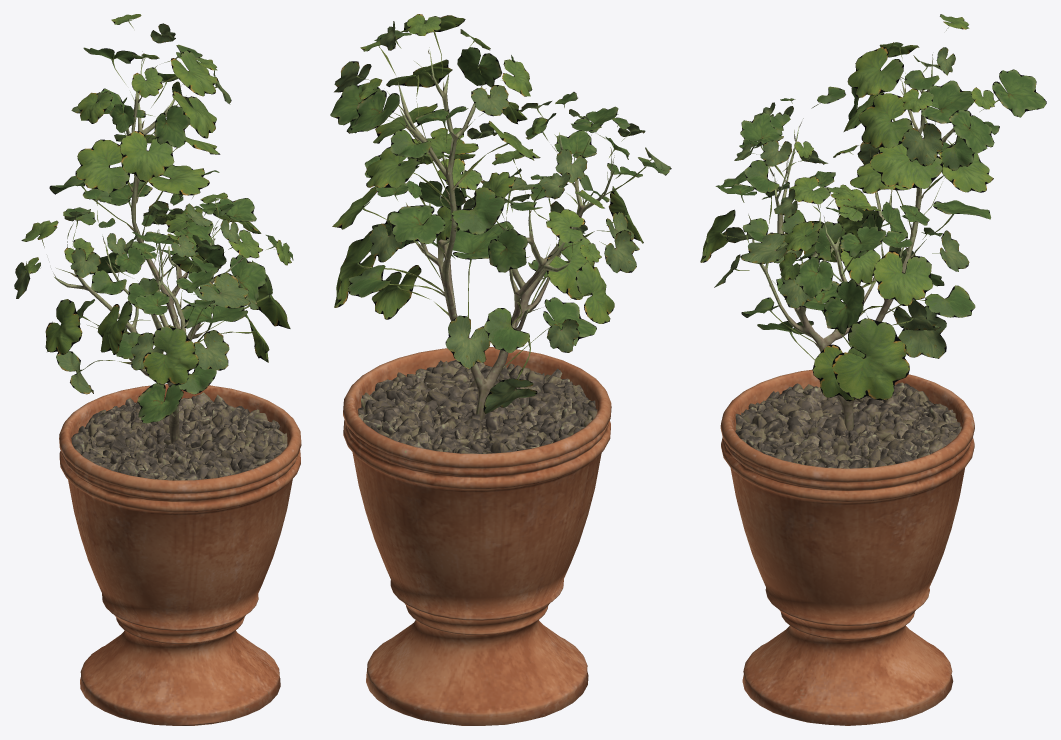
Rendered from potted_plant_01.glb.
3 renders of one model, left to right at view 1: azimuth 30°, elevation 25°; view 2: azimuth 150°, elevation 25°; view 3: azimuth 270°, elevation 25°, orthographic. The views are drawn at different scales.
Parts seen in each view (by area): view 1: potted_plant_01_pot, potted_plant_01_leaves, potted_plant_01_pebbles, potted_plant_01_stem; view 2: potted_plant_01_pot, potted_plant_01_leaves, potted_plant_01_pebbles, potted_plant_01_stem; view 3: potted_plant_01_pot, potted_plant_01_leaves, potted_plant_01_pebbles, potted_plant_01_stem.
Boxes of the visible parts, bbox=[...] form: potted_plant_01_pot: bbox=[59, 384, 301, 725]; potted_plant_01_leaves: bbox=[14, 14, 293, 423]; potted_plant_01_pebbles: bbox=[71, 392, 287, 480]; potted_plant_01_stem: bbox=[54, 57, 244, 443]; potted_plant_01_pot: bbox=[343, 347, 611, 725]; potted_plant_01_leaves: bbox=[330, 14, 671, 413]; potted_plant_01_pebbles: bbox=[358, 360, 597, 453]; potted_plant_01_stem: bbox=[397, 49, 612, 420]; potted_plant_01_pot: bbox=[720, 369, 974, 725]; potted_plant_01_leaves: bbox=[700, 14, 1046, 401]; potted_plant_01_pebbles: bbox=[735, 382, 961, 468]; potted_plant_01_stem: bbox=[752, 57, 954, 431].
Bounding box in the file's own units: 0.5866 × 1.34 × 0.6336.
2 materials, 2 textured.
